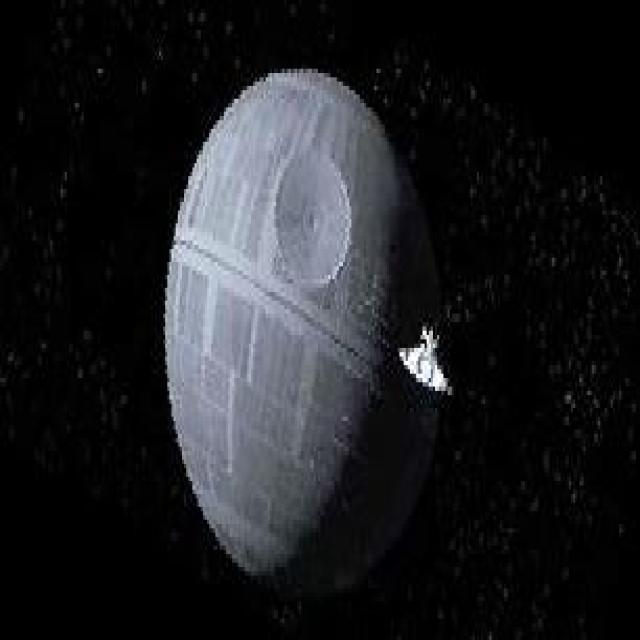Death Star: (161, 55, 461, 599)
